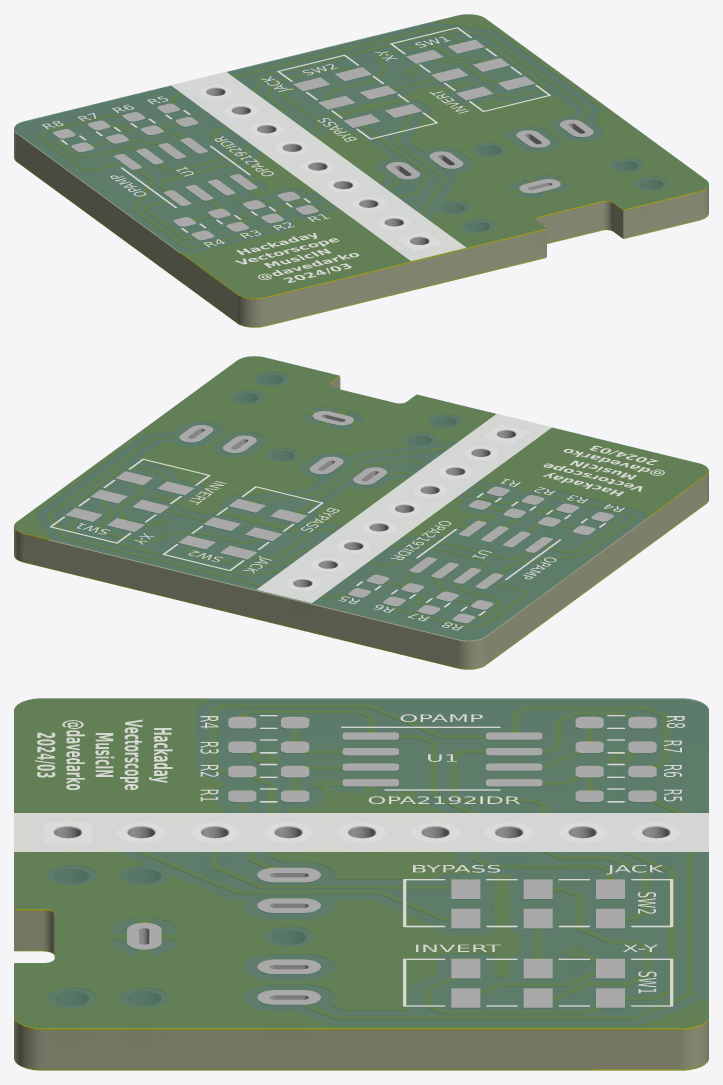
Rendered from vectorscopemusicaddon.glb.
3 views of the same model, one above another, from view 1: azimuth 30°, elevation 25°; view 2: azimuth 150°, elevation 25°; view 3: azimuth 270°, elevation 25° (orthographic). The views are drawn at different scales.
Visible parts, largest first — view 1: =>[0:1:1:7], =>[0:1:1:2], =>[0:1:1:9], =>[0:1:1:5]; view 2: =>[0:1:1:7], =>[0:1:1:2], =>[0:1:1:9], =>[0:1:1:5]; view 3: =>[0:1:1:7], =>[0:1:1:2], =>[0:1:1:9], =>[0:1:1:5].
Boxes of the visible parts, x1=… form: =>[0:1:1:7]: x1=14, y1=14, x2=708, y2=327; =>[0:1:1:2]: x1=15, y1=15, x2=708, y2=327; =>[0:1:1:9]: x1=14, y1=23, x2=708, y2=326; =>[0:1:1:5]: x1=42, y1=27, x2=663, y2=282; =>[0:1:1:7]: x1=14, y1=356, x2=708, y2=669; =>[0:1:1:2]: x1=14, y1=357, x2=708, y2=669; =>[0:1:1:9]: x1=14, y1=373, x2=708, y2=668; =>[0:1:1:5]: x1=50, y1=413, x2=664, y2=630; =>[0:1:1:7]: x1=14, y1=698, x2=708, y2=1070; =>[0:1:1:2]: x1=14, y1=699, x2=708, y2=1070; =>[0:1:1:9]: x1=14, y1=700, x2=708, y2=1069; =>[0:1:1:5]: x1=14, y1=714, x2=708, y2=1006.
Bounding box in the file's own units: 0.027 × 0.00166 × 0.024.
4 materials, 4 textured.
